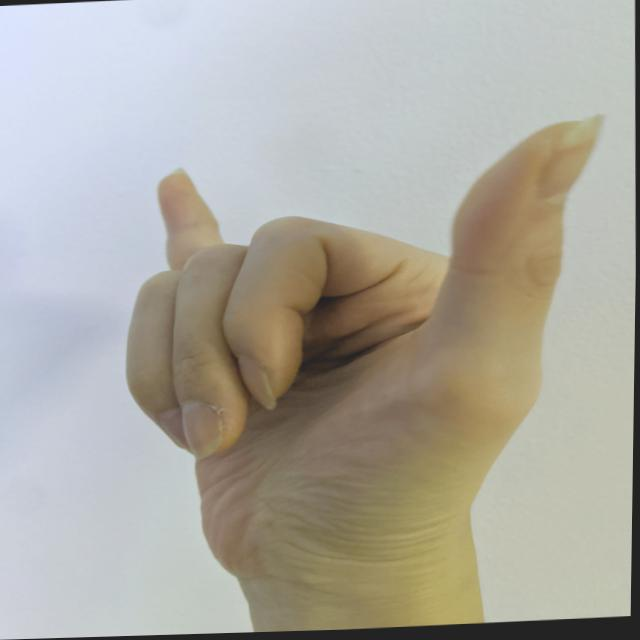Y: (110, 109, 622, 594)
